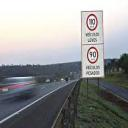speed_limit_110: (86, 14, 98, 30)
